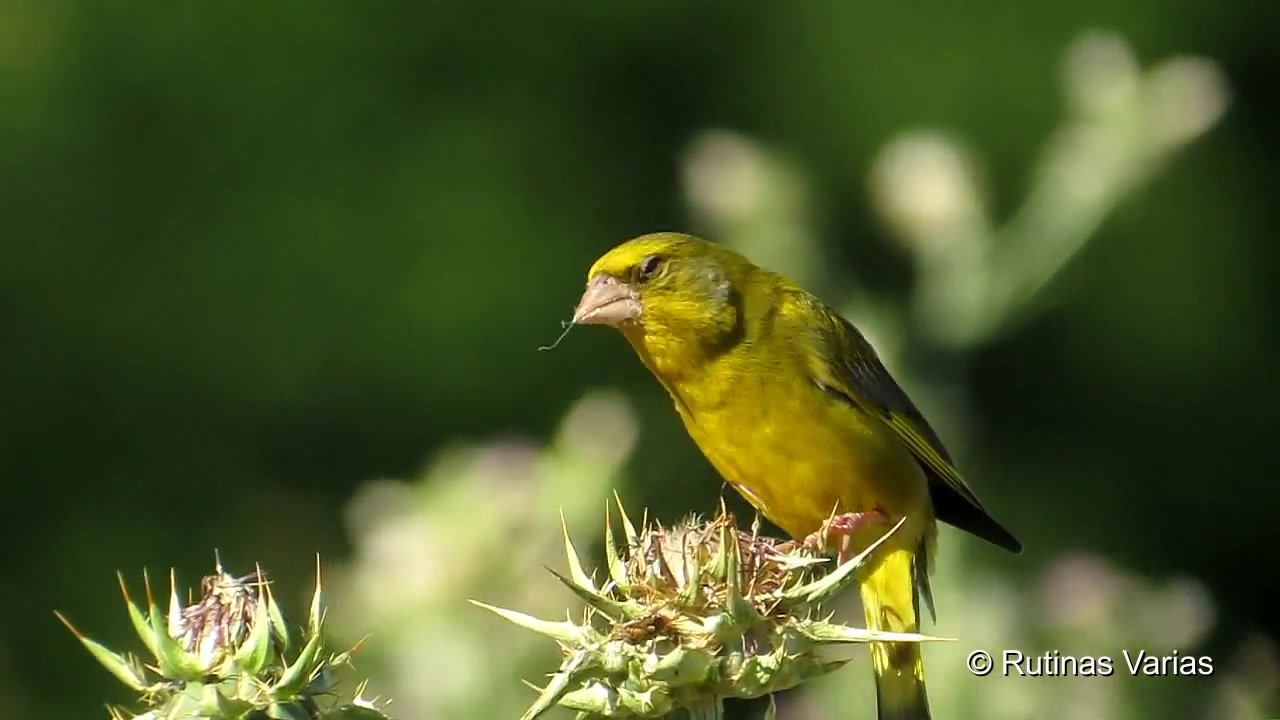bird: (572, 230, 1025, 720)
